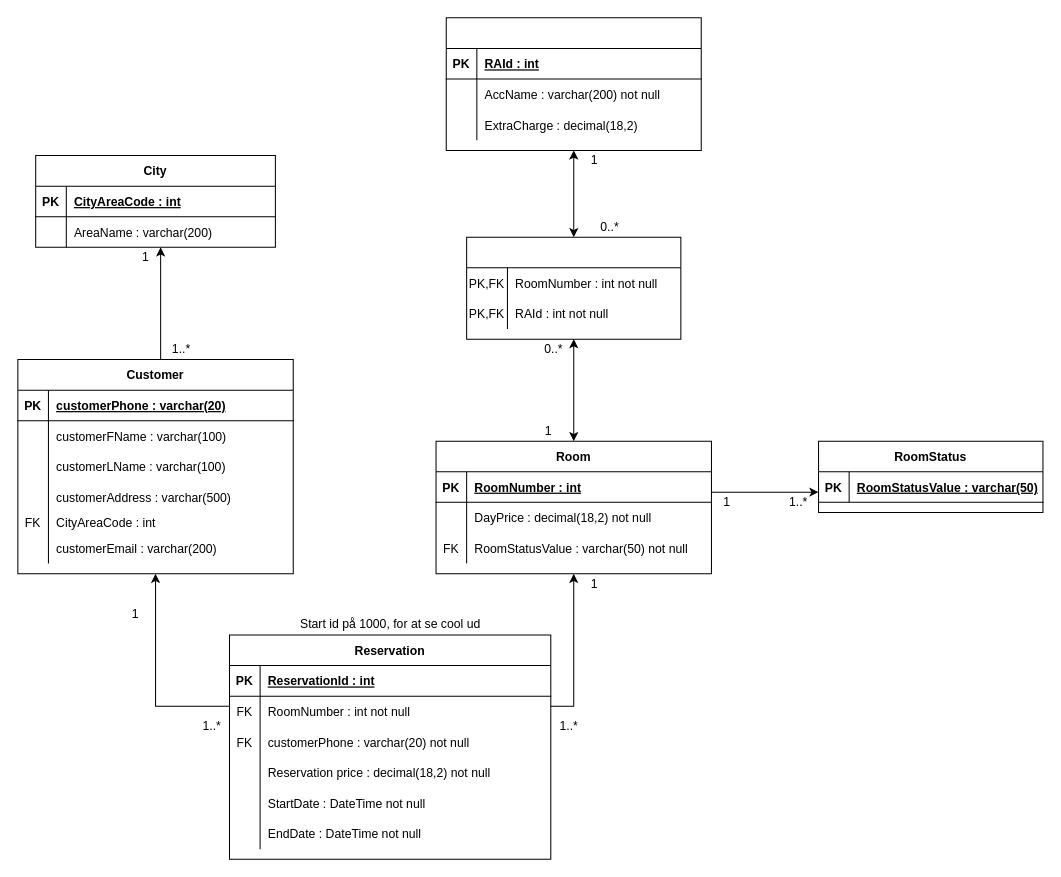
Some shapes in this 1061 by 877 pixel diagram are drawn without their labels. Here are the shapes that lost their labels. From the top down, the box of each, then its label:
(445, 17, 701, 150): RoomAccessory
(466, 236, 681, 339): RoomAccessoryList
